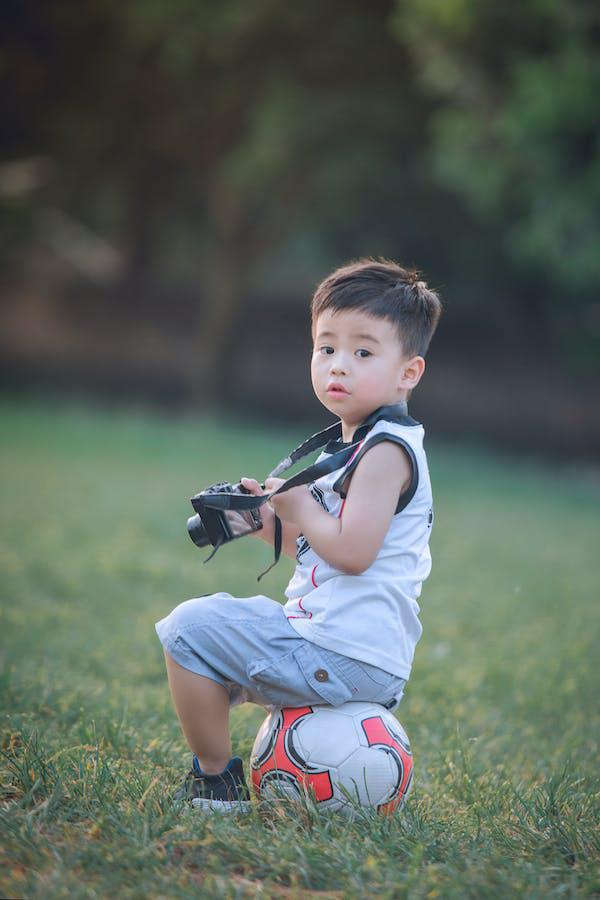child: (99, 260, 476, 828)
